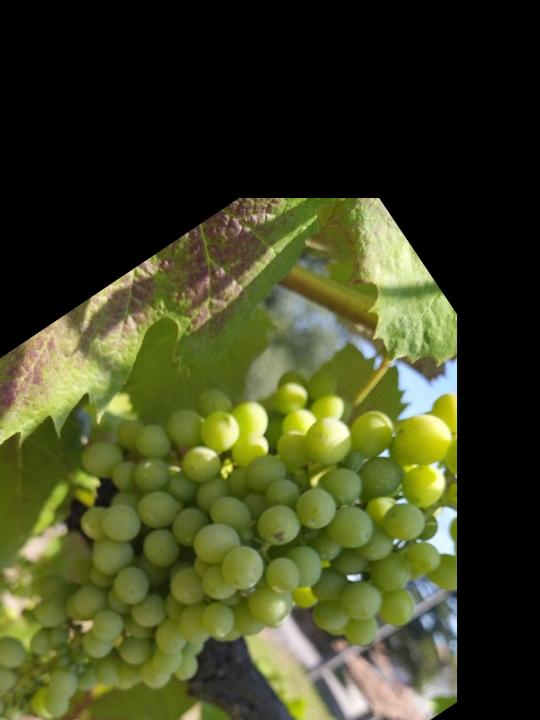grape: (0, 243, 540, 720)
